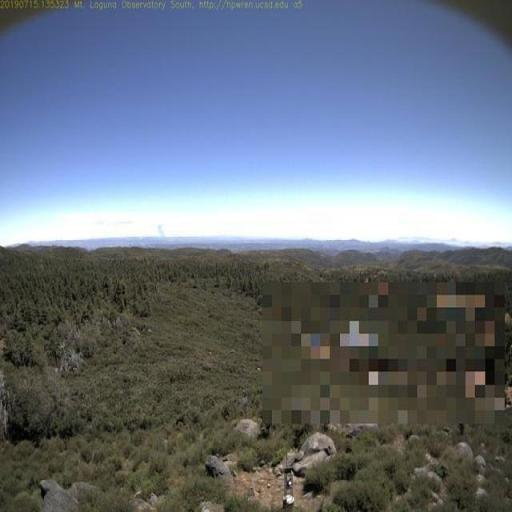smoke: (154, 220, 168, 245)
